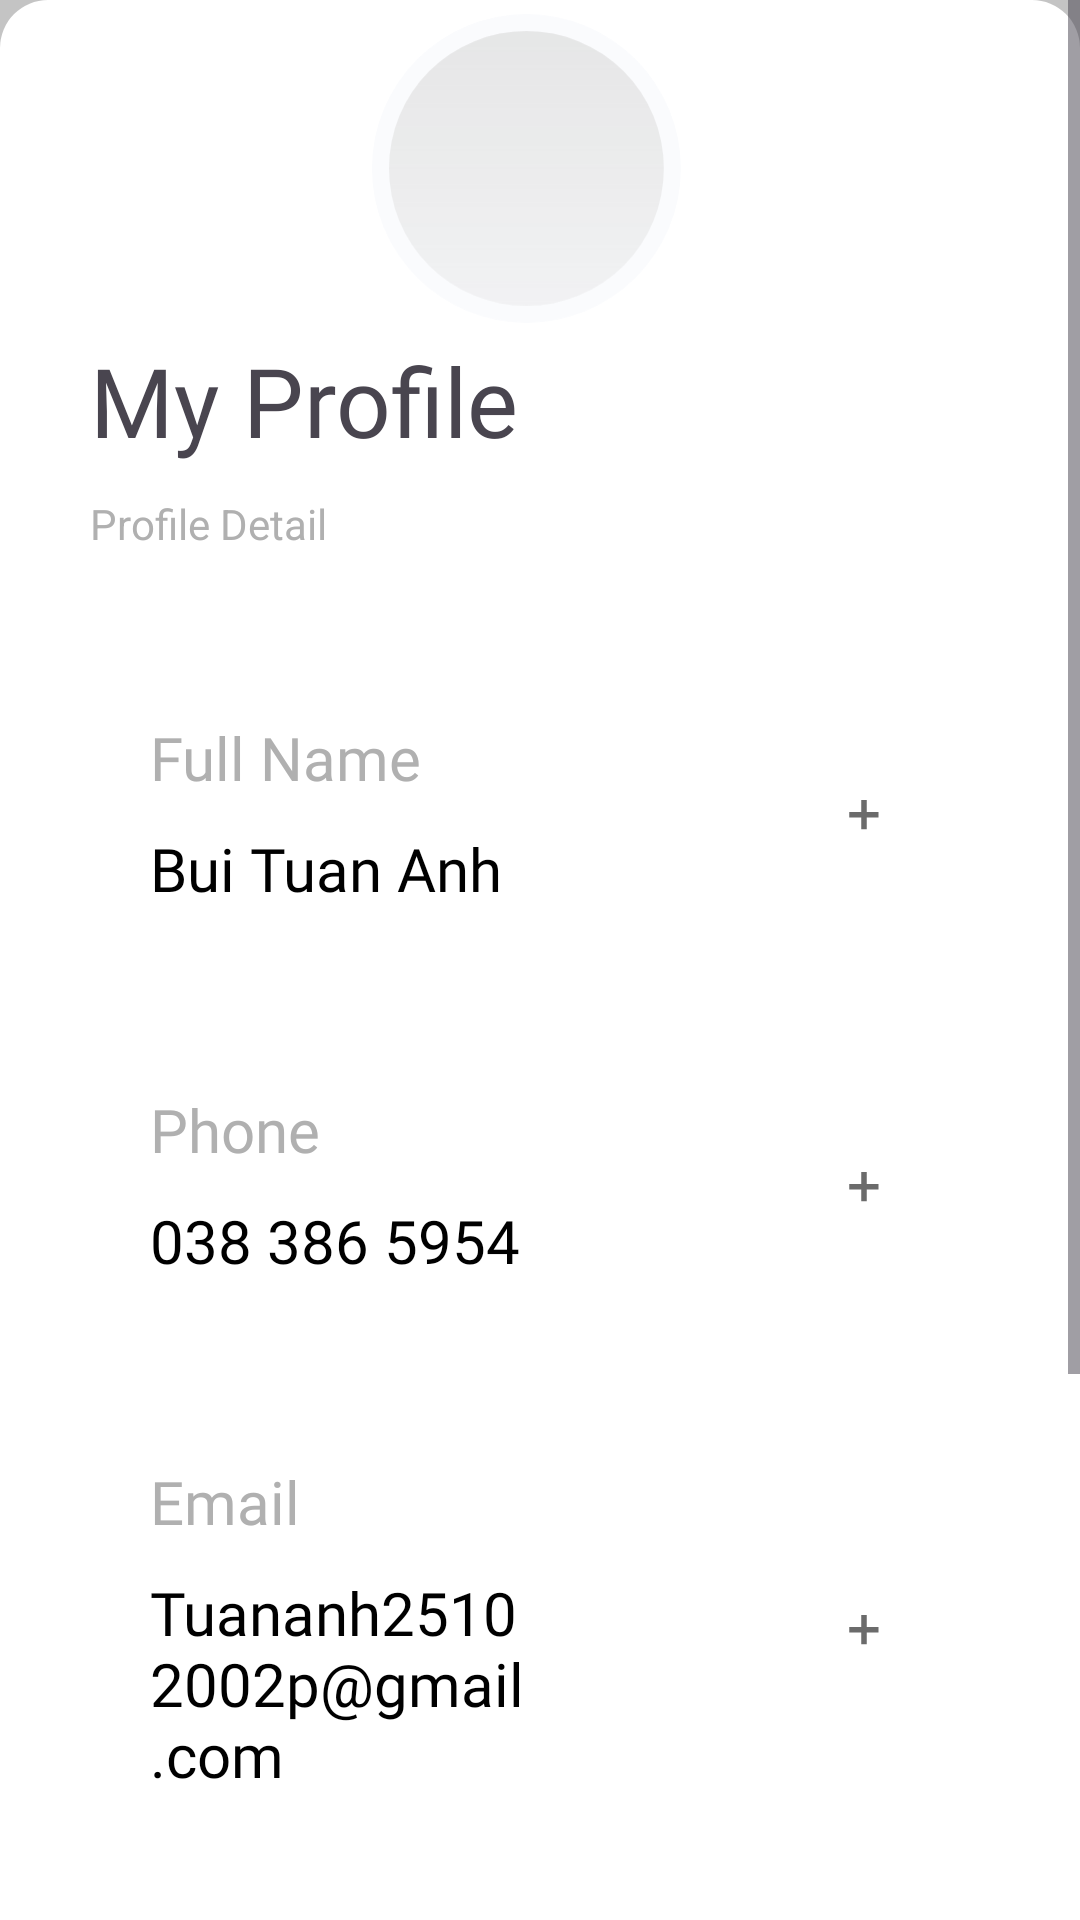

Locate icon controls on the screen. Image size 1080px×1920px, boxes as (x1, y1, x2, y2).
add: (849, 800, 879, 830), (849, 1172, 879, 1202), (849, 1615, 879, 1645)
